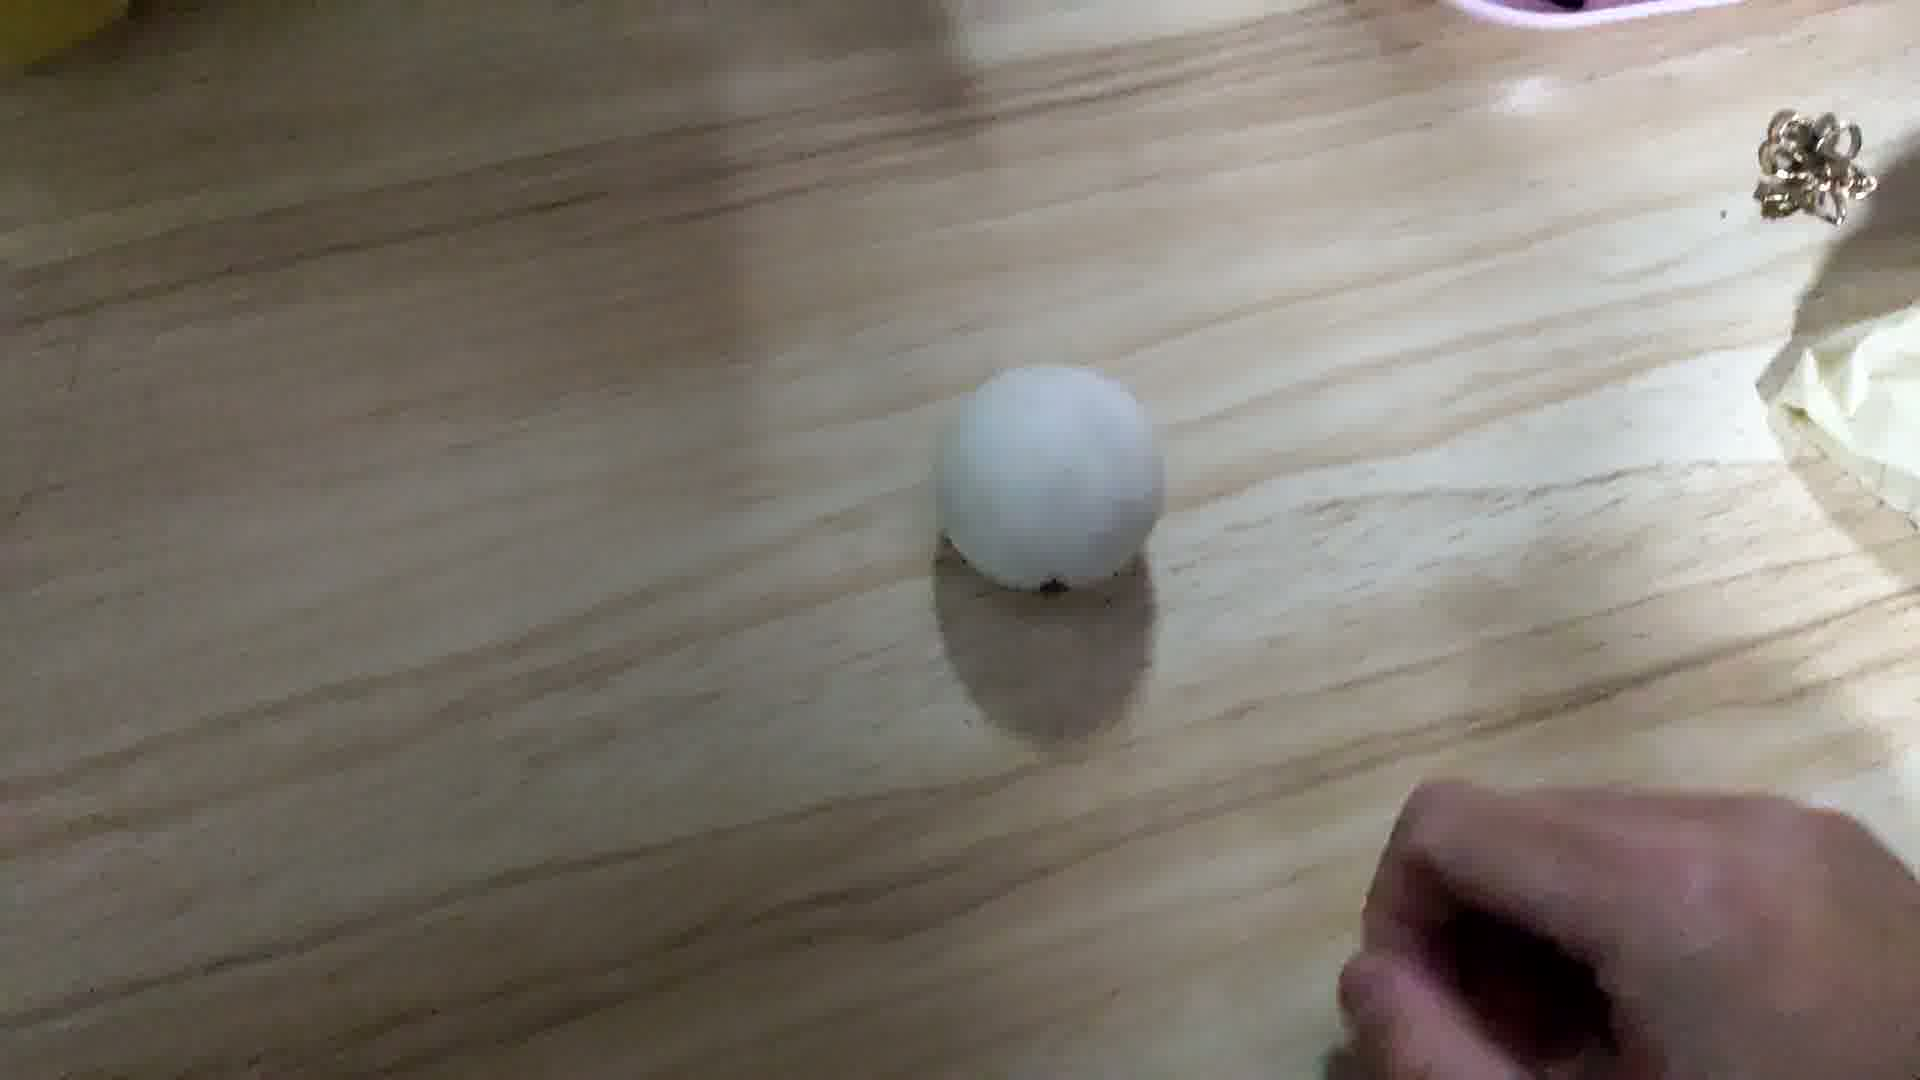Ball: (935, 363, 1167, 589)
